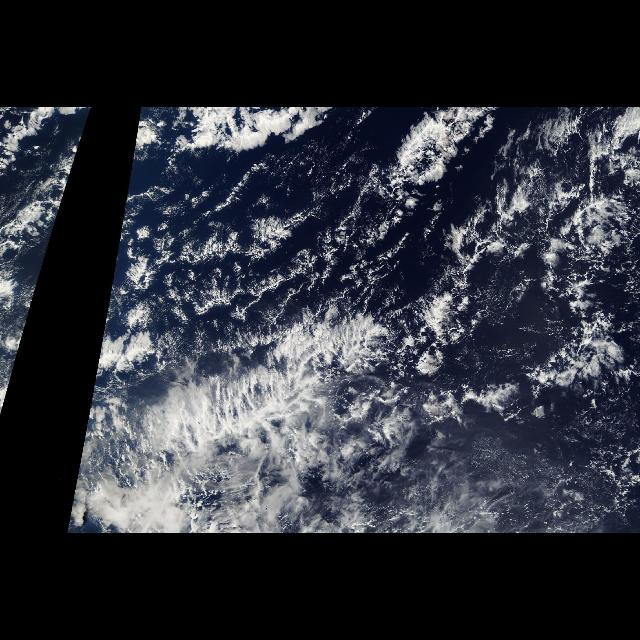Fish: (103, 113, 639, 532)
Sugar: (368, 432, 640, 534)
